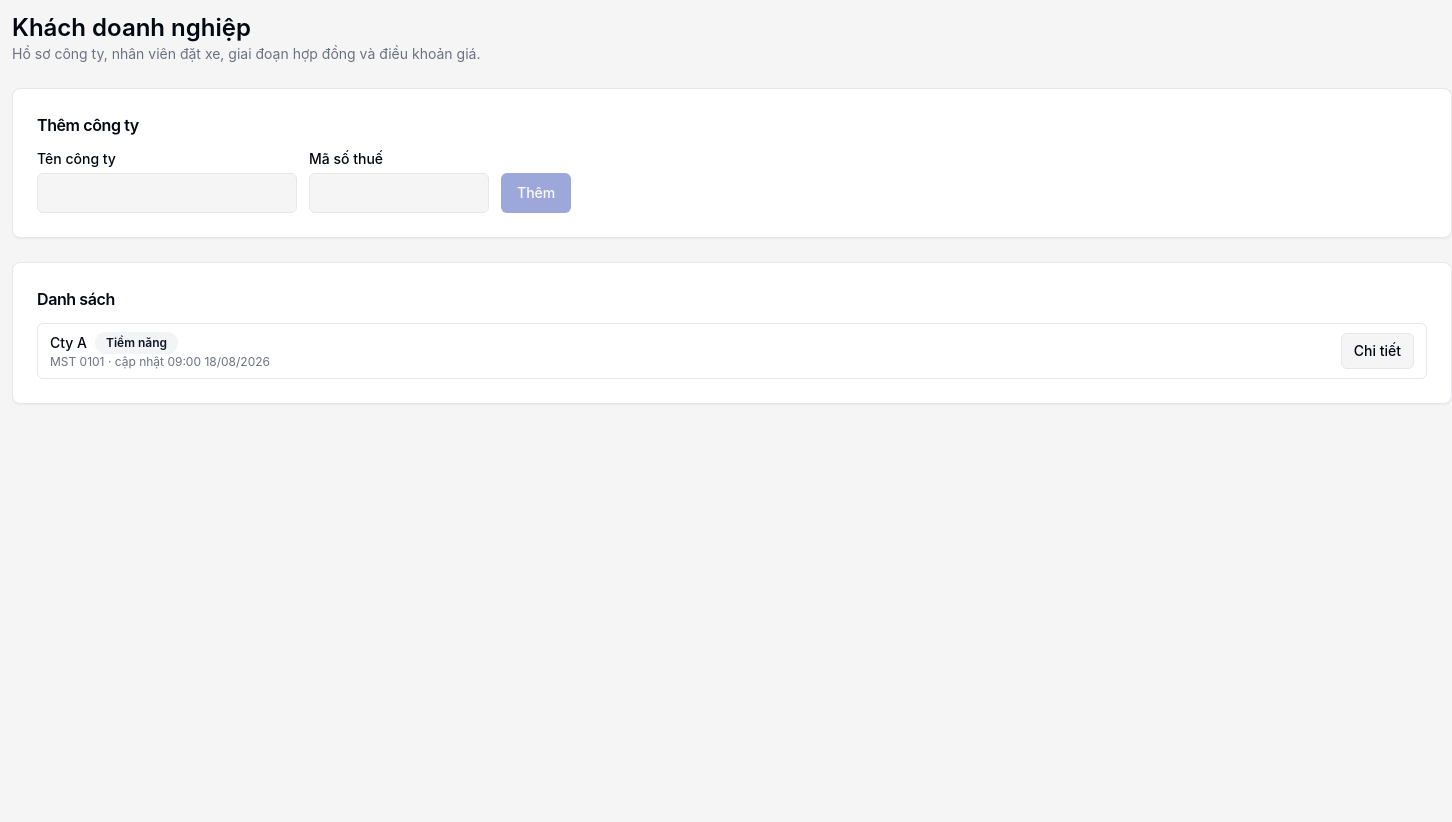
Test case: /crm-accounts — gỡ nhân viên gán nhầm › người đã gỡ hiện gạch ngang và KHÔNG còn nút Gỡ
Click the button "Chi tiết ". click: (1377, 351)
box: [1341, 333, 1414, 369]
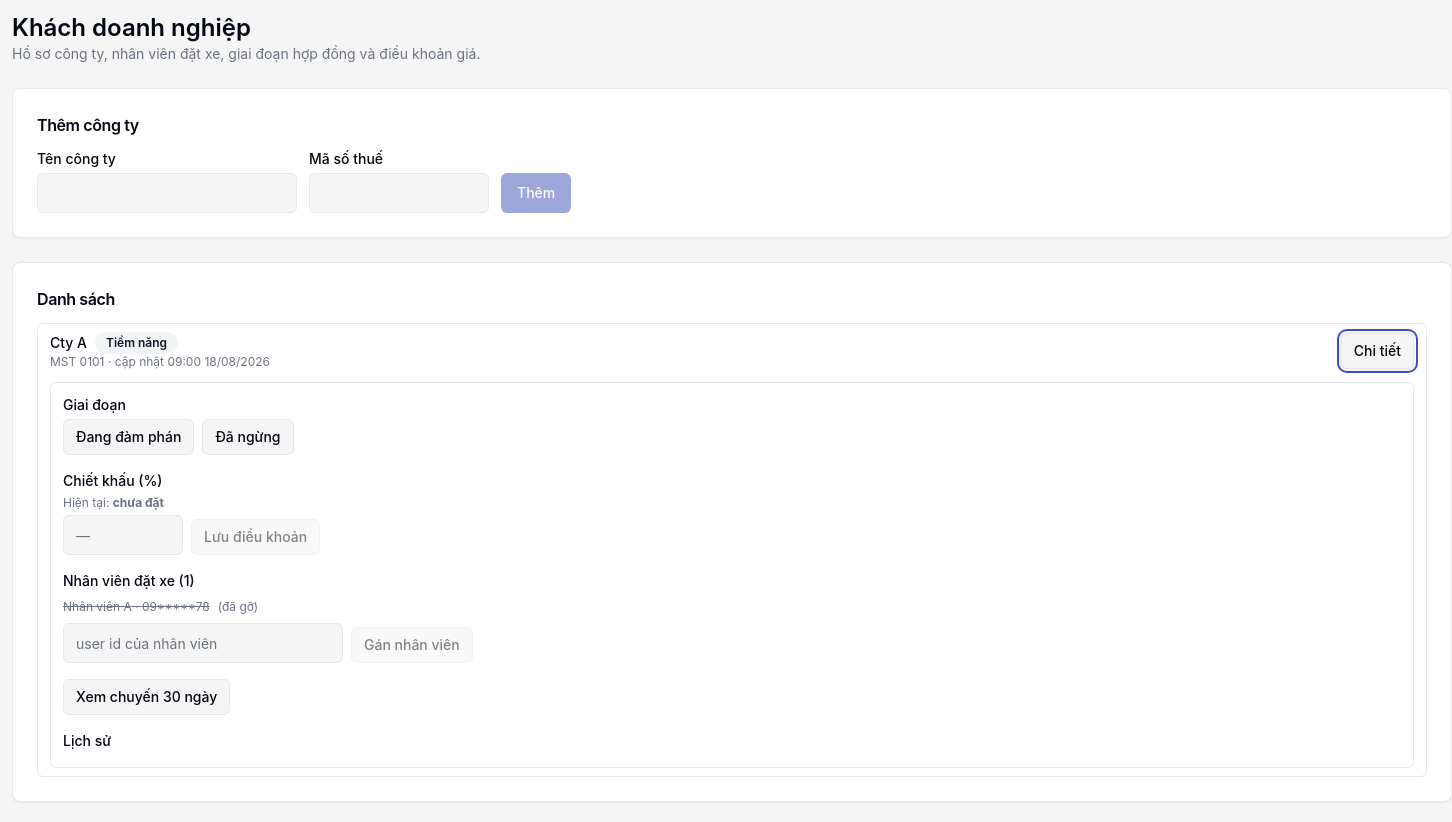
expect the list item with test id "crm-account-member" shows "đã gỡ": met, box [218, 599, 258, 614]
